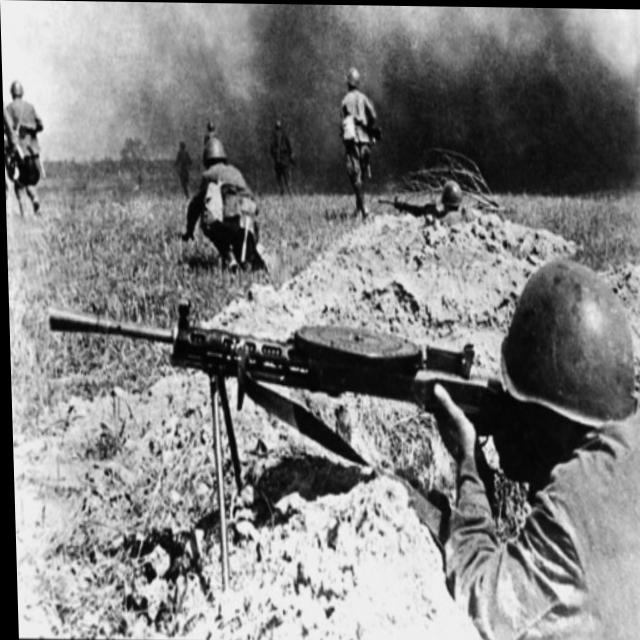other: (414, 236, 640, 630), (190, 142, 264, 263), (333, 64, 379, 214), (2, 81, 50, 192), (264, 114, 299, 195), (431, 172, 466, 220)
